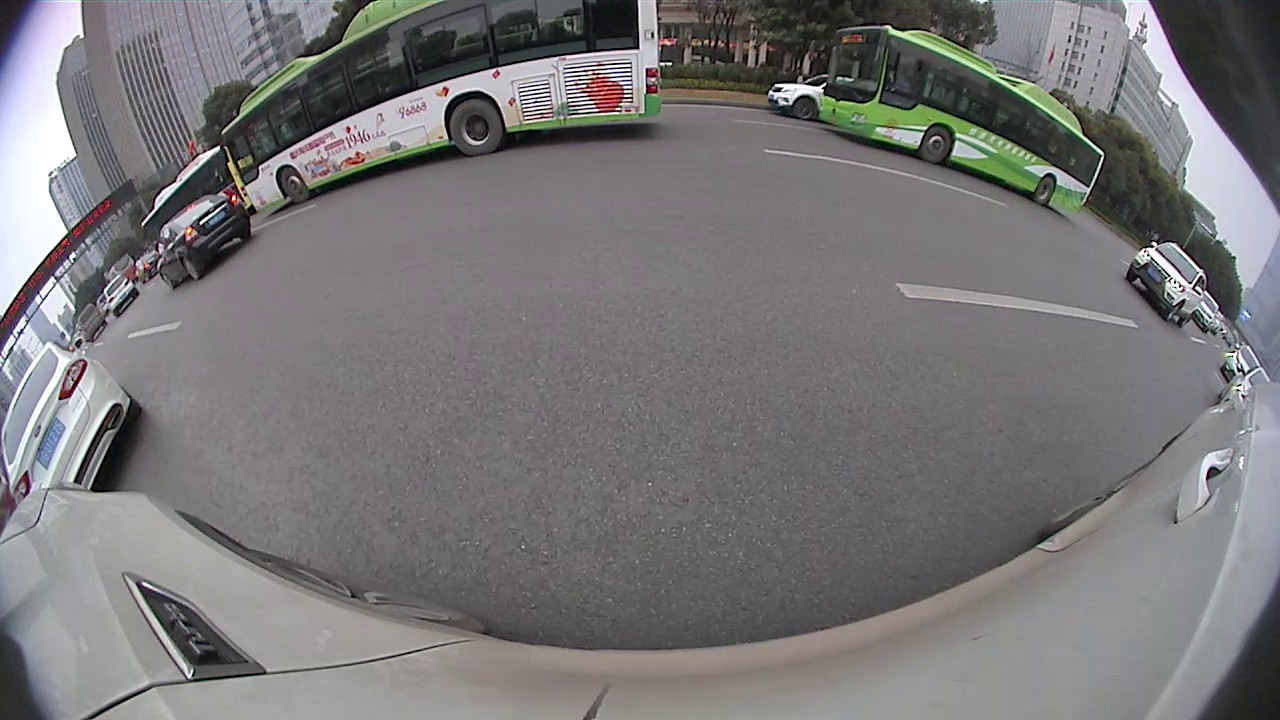bus: (213, 1, 666, 215), (813, 20, 1109, 226)
car: (0, 340, 143, 503), (149, 188, 254, 288), (1123, 240, 1209, 330), (767, 72, 849, 122)
front: (918, 123, 952, 162), (278, 165, 311, 205), (793, 97, 816, 120)
rear: (446, 100, 507, 158), (1032, 173, 1055, 205), (180, 253, 200, 282)
